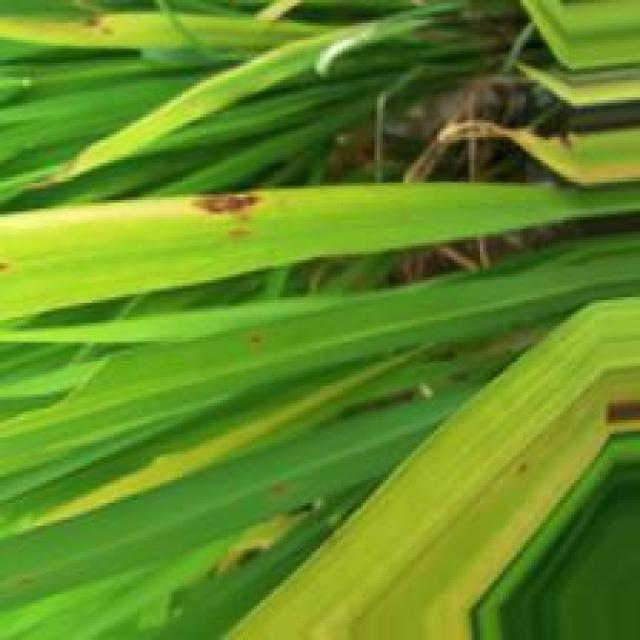Narrow_Brown_Leaf_Spot: (429, 115, 640, 193), (2, 191, 291, 240), (604, 394, 640, 434), (276, 479, 297, 500), (249, 332, 271, 348), (519, 459, 534, 481)
